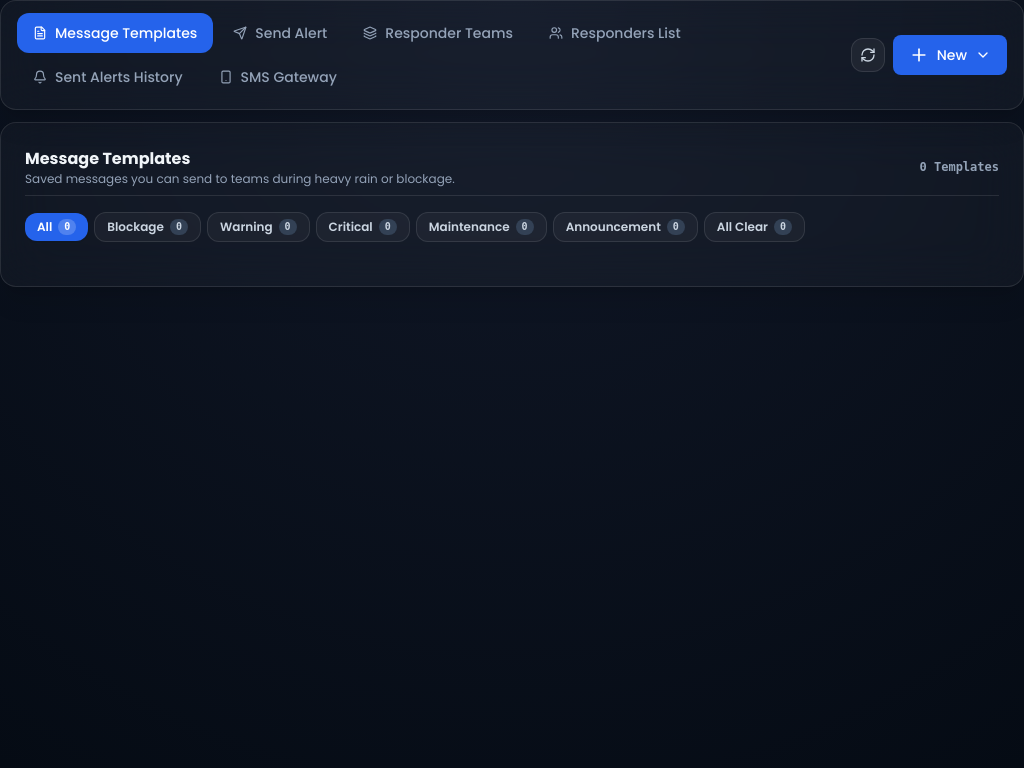
it: RespondersView Component › switches to Sent Alerts History tab with search, filters, and pagination
Click the button "Sent Alerts History" at coordinates (108, 77), box [17,57,198,97]
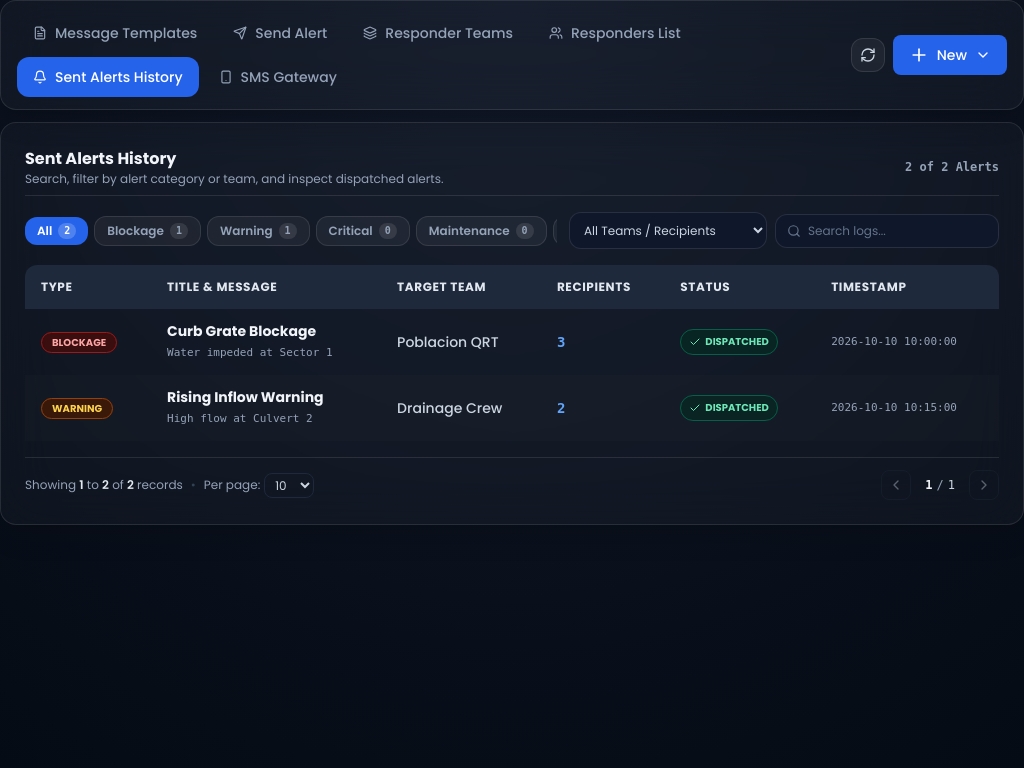
Expected: the heading "Sent Alerts History" is shown, [25,147,176,170]
Expected: the text "Search, filter by alert category or team, and inspect dispatched alerts." is shown, [25,171,443,187]
Expected: the text "Curb Grate Blockage" is shown, [167,321,316,341]
Note: Test Category filter pill
Click the button "Warning 1" at coordinates (258, 230), box [207,216,310,246]
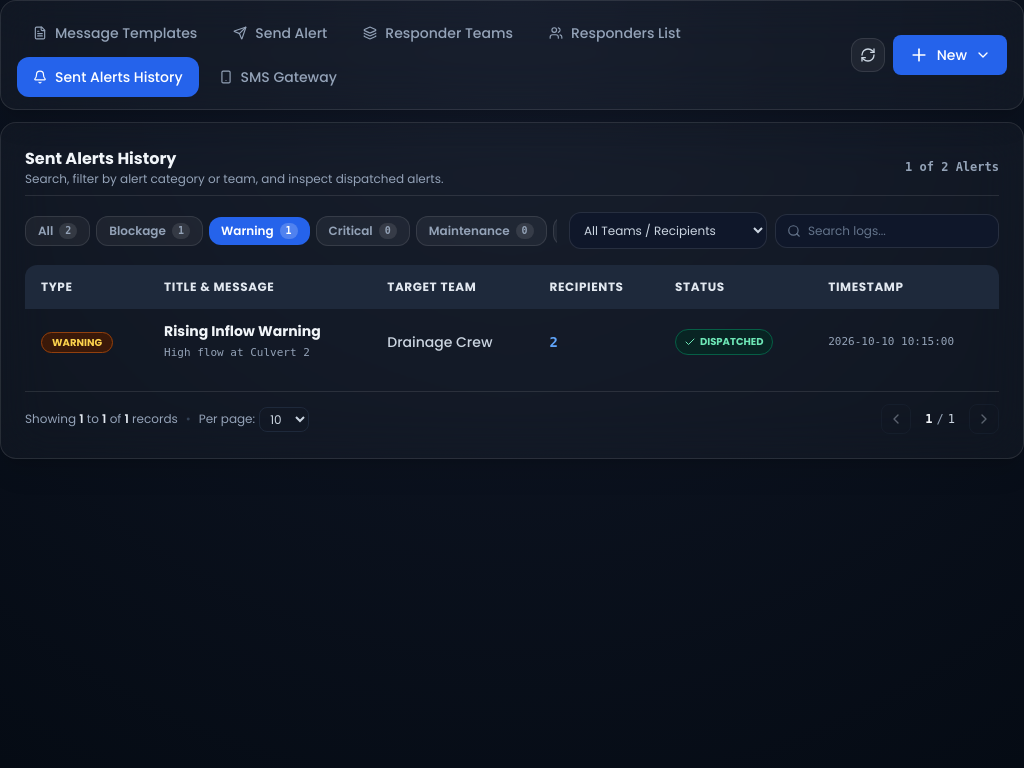
Expected: the text "Rising Inflow Warning" is shown, [164,321,321,341]
Expected: the text "Curb Grate Blockage" is gone
Note: Reset to All
Click the button "All 2" at coordinates (58, 230), box [25,216,90,246]
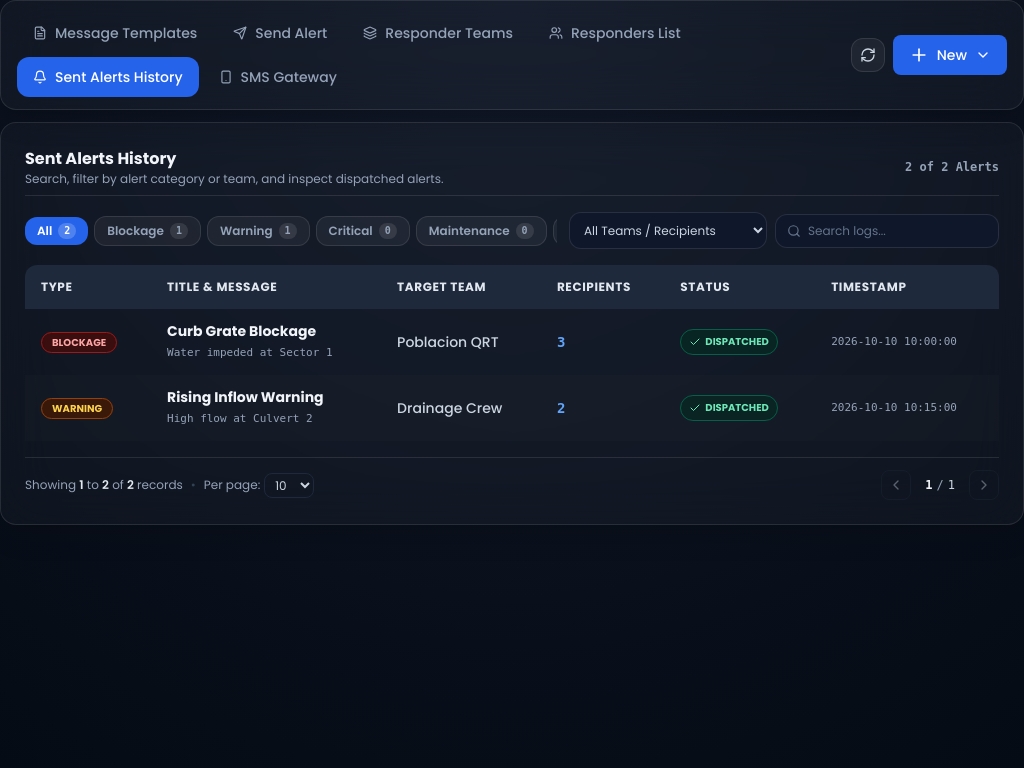
Expected: the text "Curb Grate Blockage" is shown, [167,321,316,341]
Note: Test Search input
Type "Sector 1" into the field with placeholder "Search logs..." at coordinates (887, 230), box [775,214,999,248]
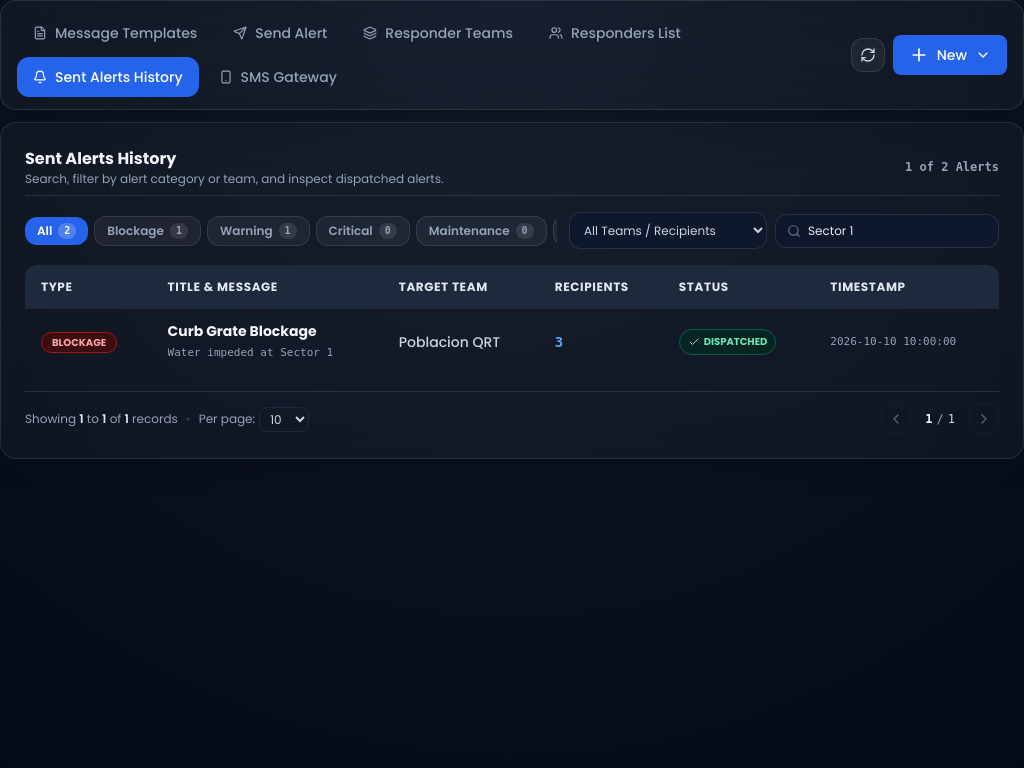
Expected: the text "Curb Grate Blockage" is shown, [168,321,317,341]
Expected: the text "Rising Inflow Warning" is gone
